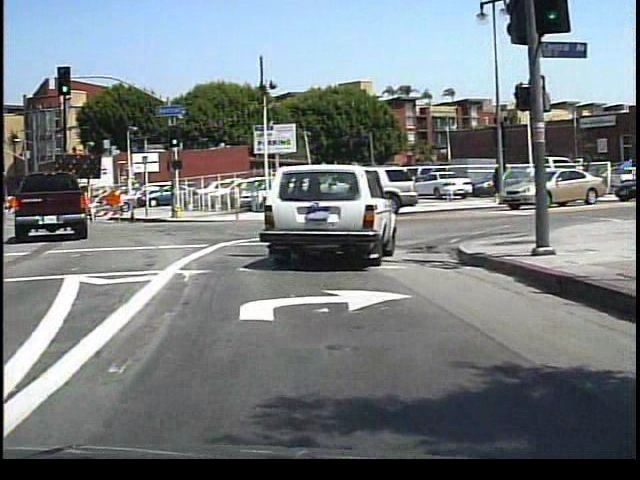person: (488, 161, 508, 204)
